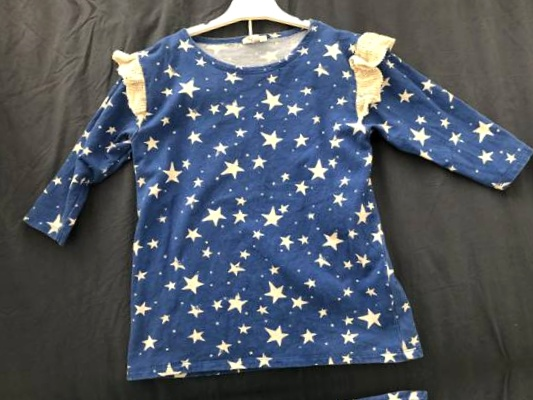Dress: (20, 0, 533, 400), (63, 373, 533, 400), (0, 0, 509, 7)
